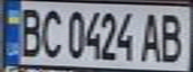0: (63, 7, 84, 60)
2: (100, 8, 121, 61)
4: (115, 8, 139, 62), (81, 7, 100, 61)
A: (136, 9, 166, 63)
B: (157, 9, 190, 63), (15, 3, 45, 59)
C: (36, 6, 66, 60)
